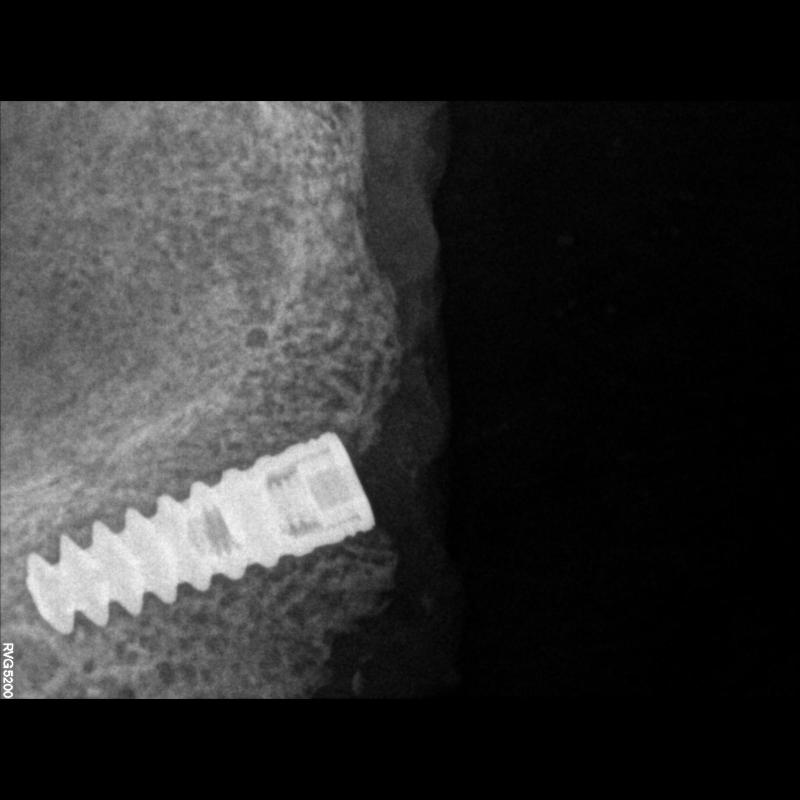ADIN: (16, 423, 380, 634)
